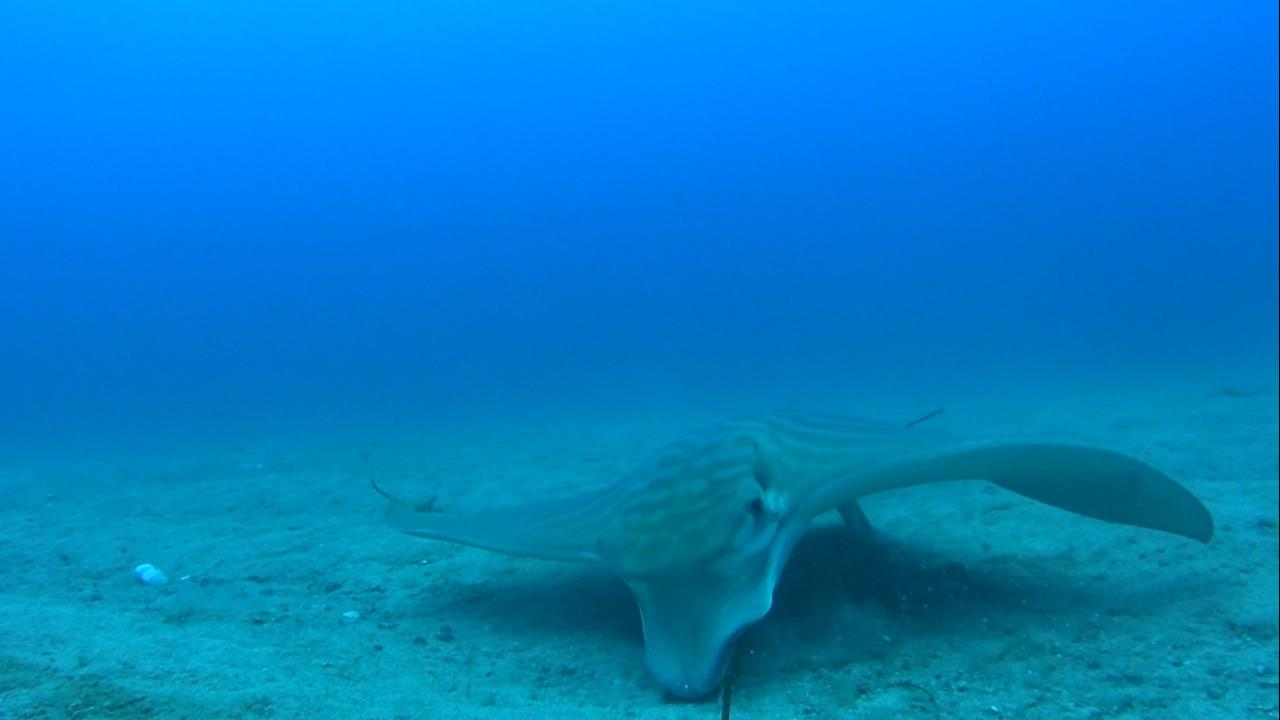myliobatis: (364, 389, 1218, 702)
